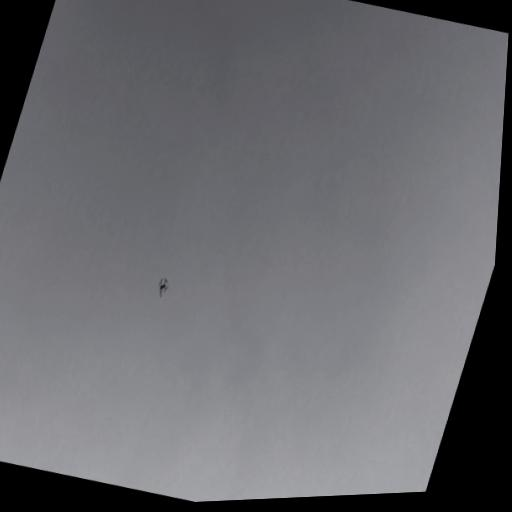drones: (154, 275, 172, 300)
